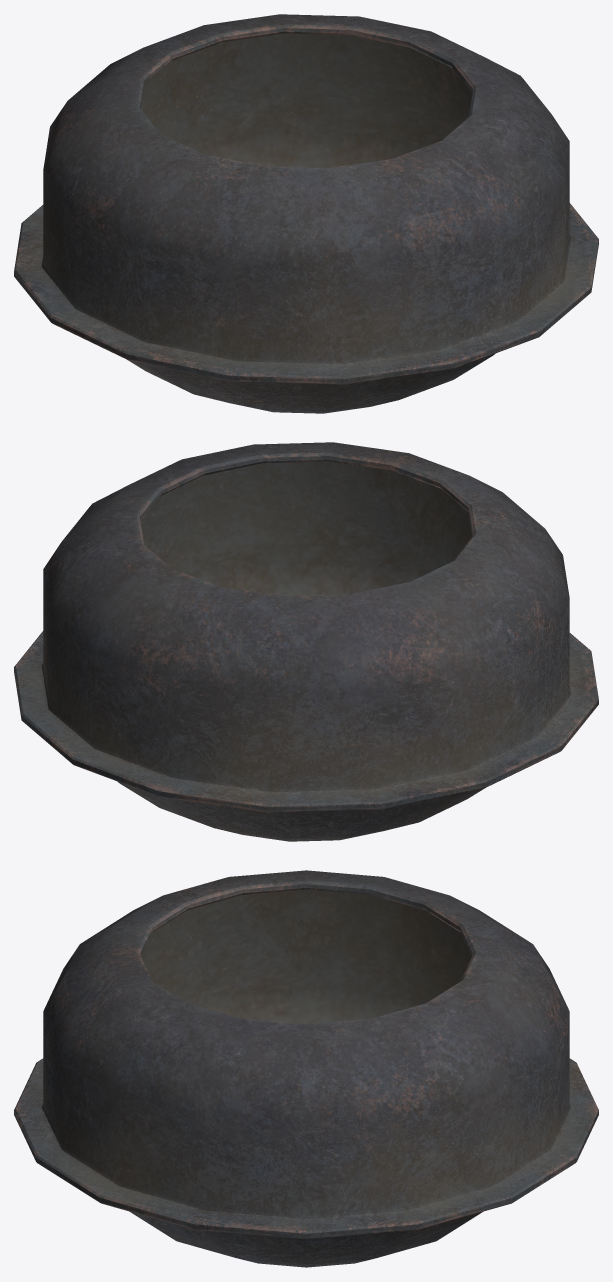
File: SM_Cauldron01a.fbx
3 views of the same model, one above another, from view 1: azimuth 30°, elevation 25°; view 2: azimuth 150°, elevation 25°; view 3: azimuth 270°, elevation 25° (orthographic).
Visible parts, largest first — view 1: SM_Cauldron01a; view 2: SM_Cauldron01a; view 3: SM_Cauldron01a.
Boxes of the visible parts, <box> form: SM_Cauldron01a: <box>14,14,598,413</box>; SM_Cauldron01a: <box>14,442,598,841</box>; SM_Cauldron01a: <box>14,870,598,1267</box>.
Size of the model in its own units: 63.42 by 32.31 by 63.42.
